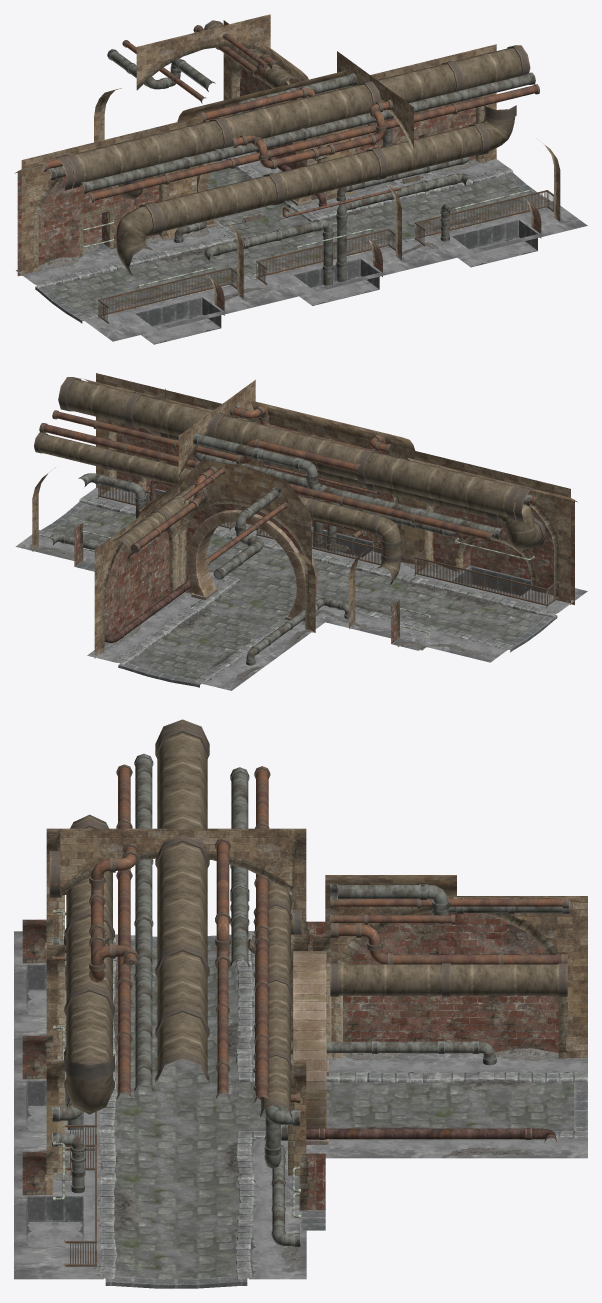
The model's file is t3_road_t_junction_c.glb.
3 renders of one model, top to bottom at view 1: azimuth 30°, elevation 25°; view 2: azimuth 150°, elevation 25°; view 3: azimuth 270°, elevation 25°, orthographic. The views are drawn at different scales.
Parts seen in each view (by area): view 1: um_t3_road_t_junction_c_model_t3_road_t_junction_c_modelShap; view 2: um_t3_road_t_junction_c_model_t3_road_t_junction_c_modelShap; view 3: um_t3_road_t_junction_c_model_t3_road_t_junction_c_modelShap.
Boxes of the visible parts, <box> form: um_t3_road_t_junction_c_model_t3_road_t_junction_c_modelShap: <box>15,14,587,344</box>; um_t3_road_t_junction_c_model_t3_road_t_junction_c_modelShap: <box>15,373,587,690</box>; um_t3_road_t_junction_c_model_t3_road_t_junction_c_modelShap: <box>14,719,587,1288</box>.
Size of the model in its own units: 30.77 by 9.83 by 20.92.
9 materials, 9 textured.
